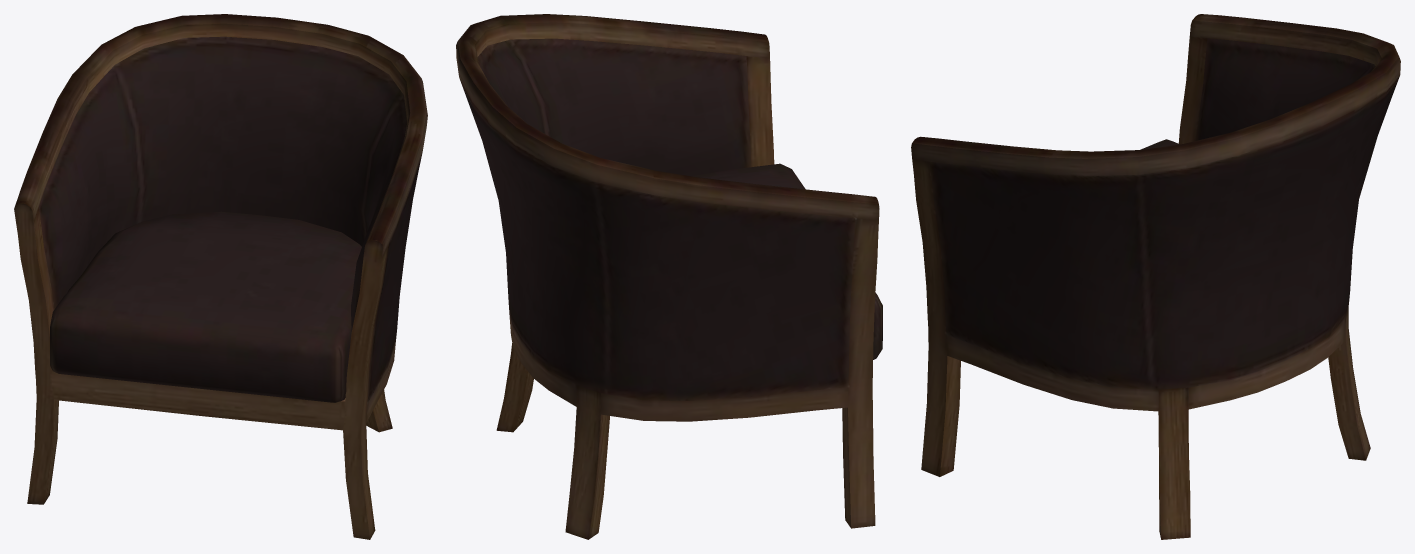
Rendered from fauteuil-club.glb.
3 views of the same model, side by side, from view 1: azimuth 30°, elevation 25°; view 2: azimuth 150°, elevation 25°; view 3: azimuth 270°, elevation 25° (orthographic). The views are drawn at different scales.
Parts seen in each view (by area): view 1: re_arm_(2); view 2: re_arm_(2); view 3: re_arm_(2).
Part boxes in pixels (x1,y1,x2,y2): re_arm_(2): (14,14,427,539); re_arm_(2): (456,14,882,539); re_arm_(2): (911,14,1400,539).
Bounding box in the file's own units: 0.7881 × 0.7323 × 0.7861.
Materials: 1 (1 with a texture image).
